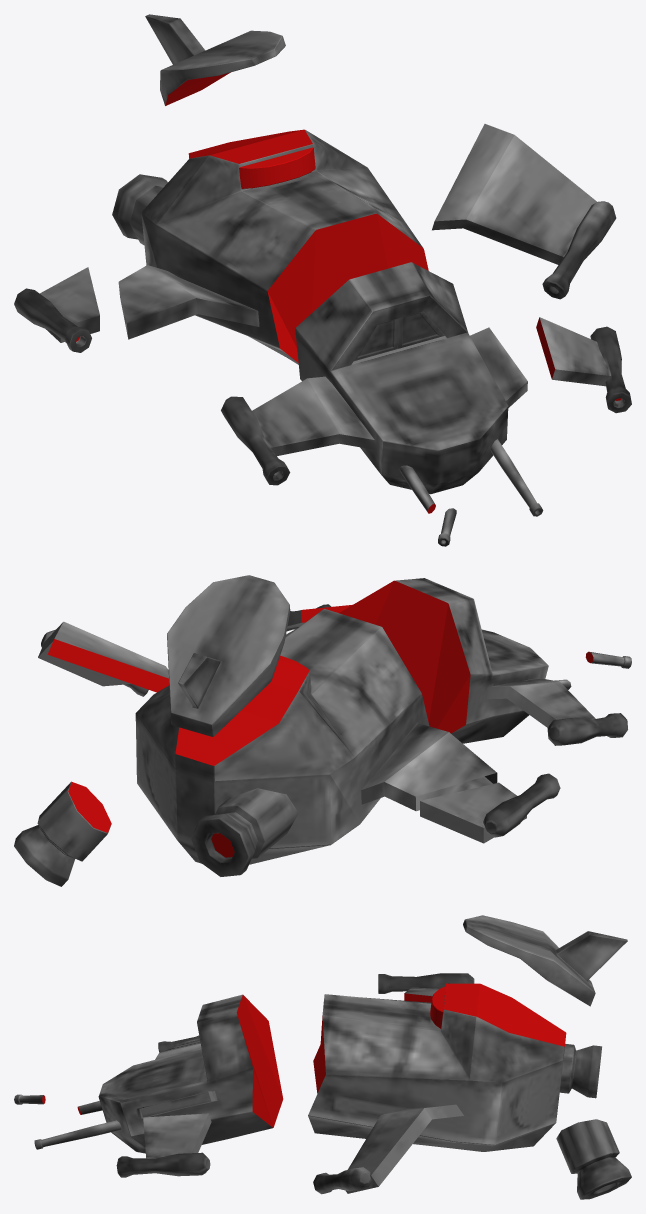
The model's file is destroyed_pirate_ship.obj.
The picture shows the model from 3 angles, top to bottom: view 1: azimuth 30°, elevation 25°; view 2: azimuth 150°, elevation 25°; view 3: azimuth 270°, elevation 25°; orthographic projection. The views are drawn at different scales.
Visible parts, largest first — view 1: Cube.017; view 2: Cube.017; view 3: Cube.017.
Part boxes in pixels (x1=…): Cube.017: x1=14, y1=14, x2=631, y2=546; Cube.017: x1=14, y1=575, x2=631, y2=886; Cube.017: x1=14, y1=915, x2=631, y2=1199.
Bounding box in the file's own units: 17.14 × 8.8 × 21.07.
